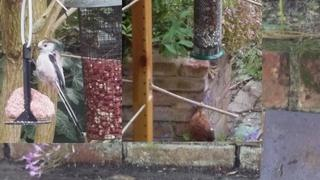long tailed tit: (32, 40, 82, 133)
